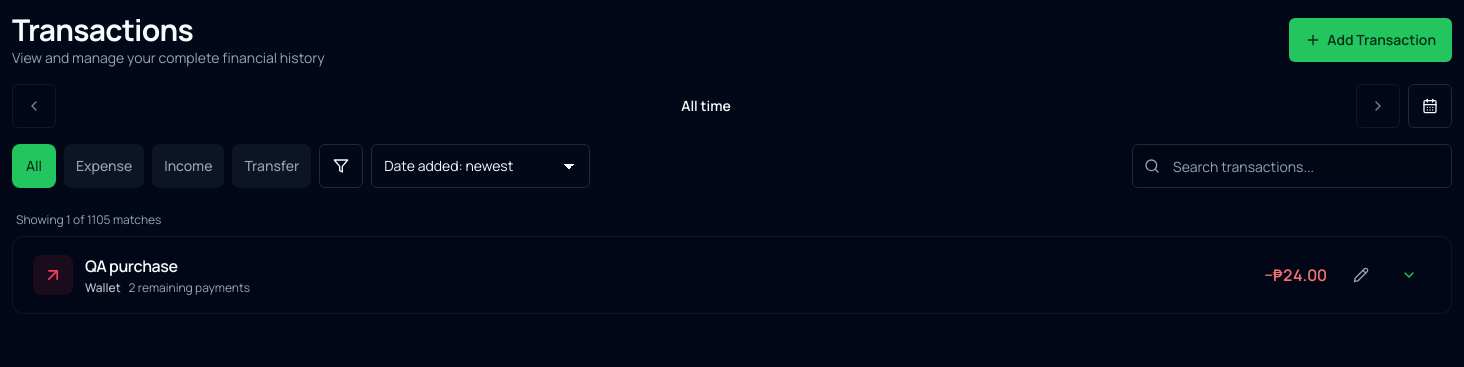
it: transactions history pagination › does not open a group editor when its original transaction proof is missing
This screenshot has width=1464, height=367.
Click the button named "Edit description for QA purchase" at (1361, 275), box x1=1339 y1=253 x2=1383 y2=297
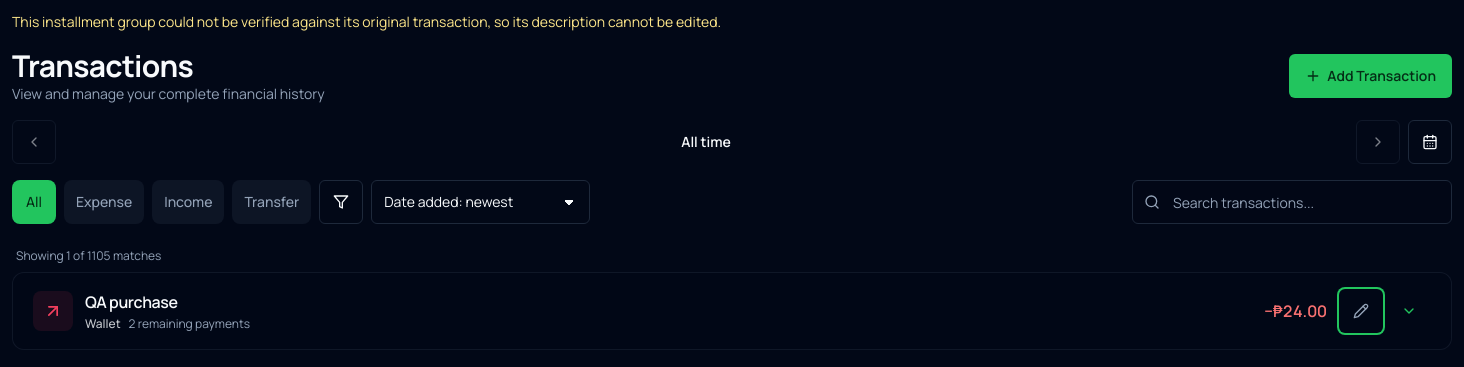
Now the message shows "could not be verified against its original transaction", box x1=12 y1=12 x2=721 y2=31
